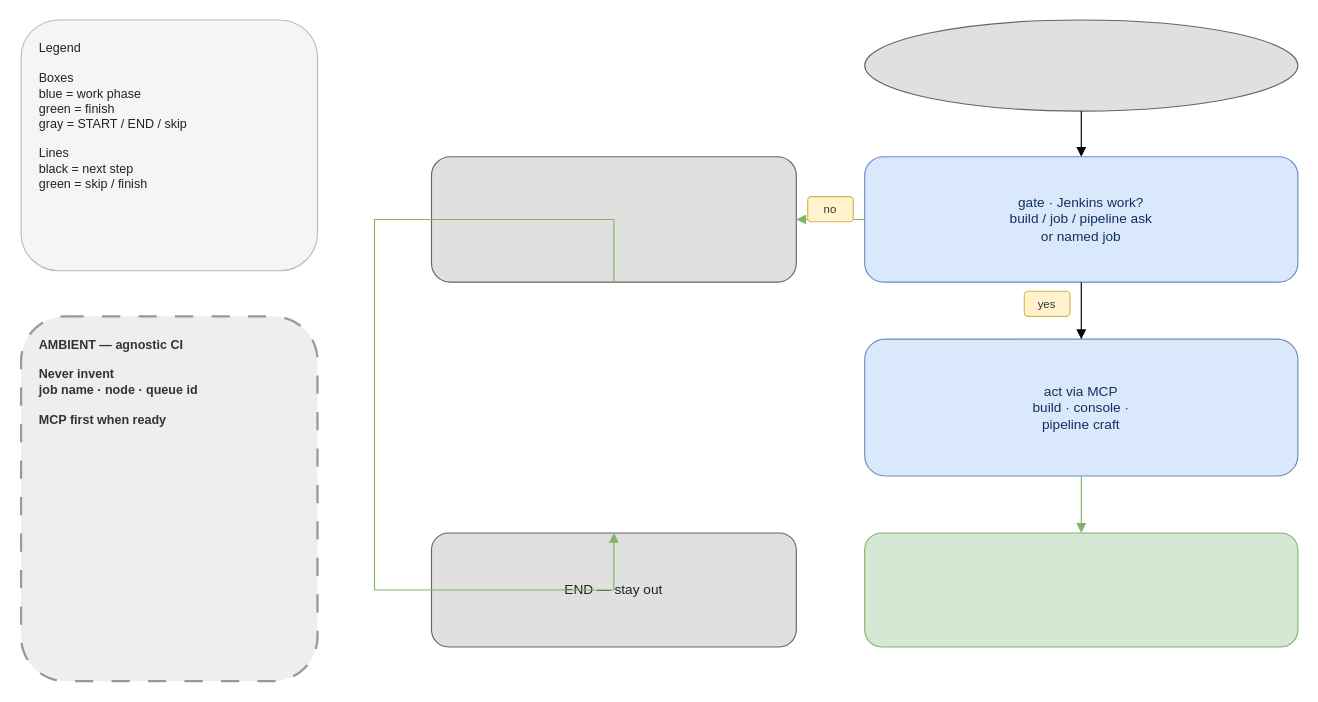
This 1318x702 diagram has some shape labels left out. The centre of each missing label's shape, as x and y in pixels:
END — build result + console evidence: (x=1081, y=589)
skip — no Jenkins ordinary coding; do not trigger builds for sport: (x=613, y=219)
START — user ask: (x=1081, y=65)
